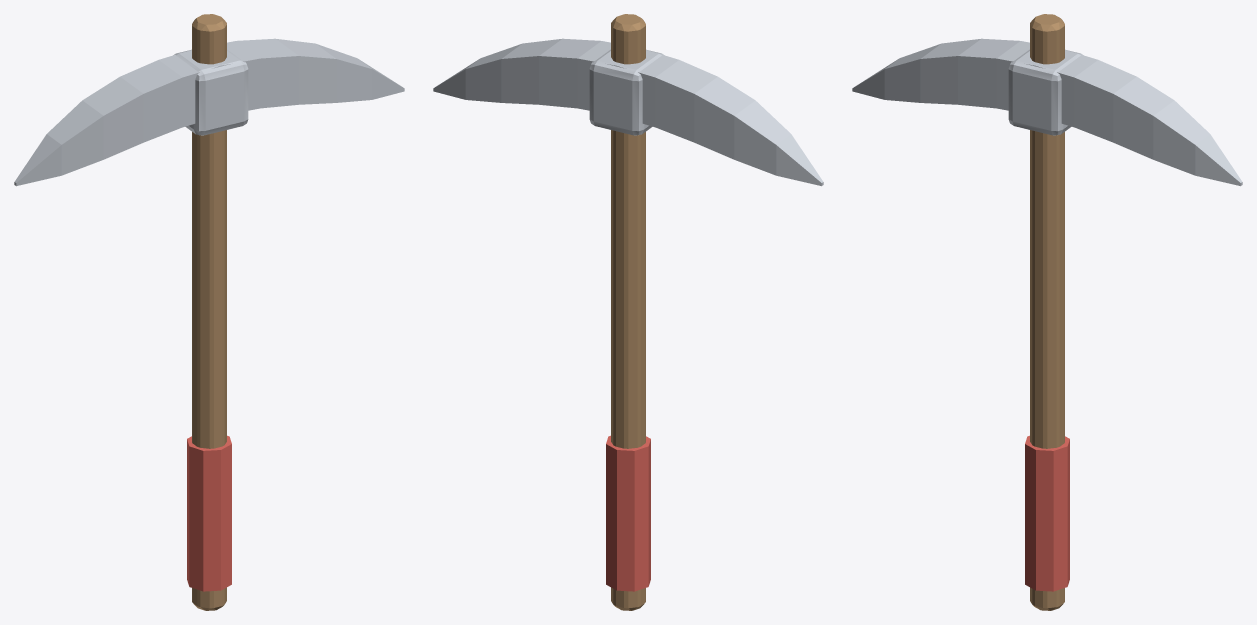
Rendered from pickaxe_v3.glb.
3 views of the same model, side by side, from view 1: azimuth 30°, elevation 25°; view 2: azimuth 150°, elevation 25°; view 3: azimuth 330°, elevation 25° (orthographic).
Parts seen in each view (by area): view 1: Pick_Head, Pick_Handle, Pick_Grip; view 2: Pick_Head, Pick_Handle, Pick_Grip; view 3: Pick_Head, Pick_Handle, Pick_Grip.
Boxes of the visible parts, x1,y1,x2,y2 form: Pick_Head: (14,38,404,186); Pick_Handle: (192,14,226,610); Pick_Grip: (187,435,231,591); Pick_Head: (433,38,823,186); Pick_Handle: (611,14,645,610); Pick_Grip: (606,435,650,591); Pick_Head: (852,38,1242,186); Pick_Handle: (1030,14,1064,610); Pick_Grip: (1025,435,1069,591).
Bounding box in the file's own units: 2.6 × 3.75 × 0.36.
